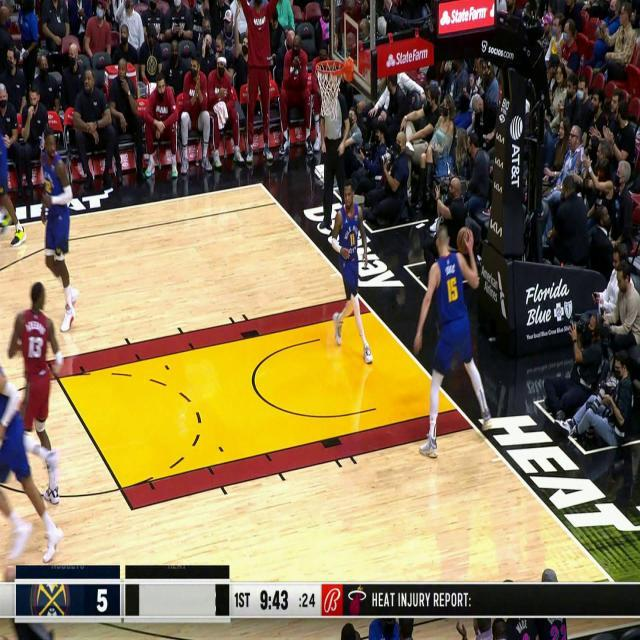rim: (456, 228, 471, 254)
